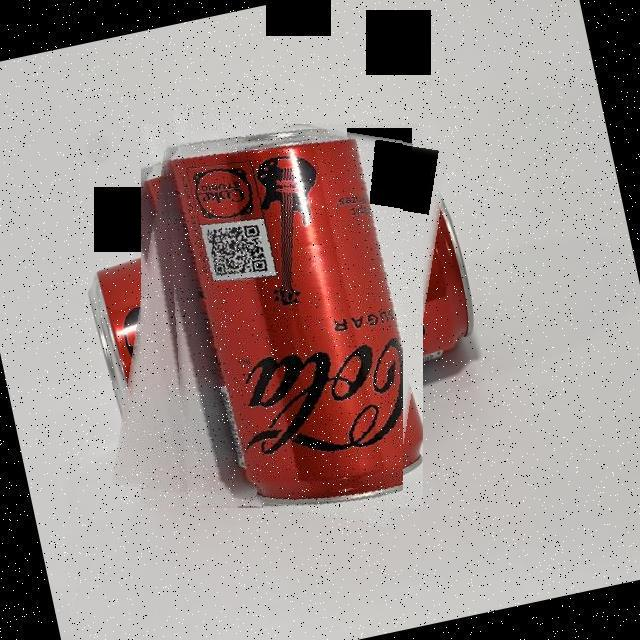recyclable: (165, 130, 403, 506)
